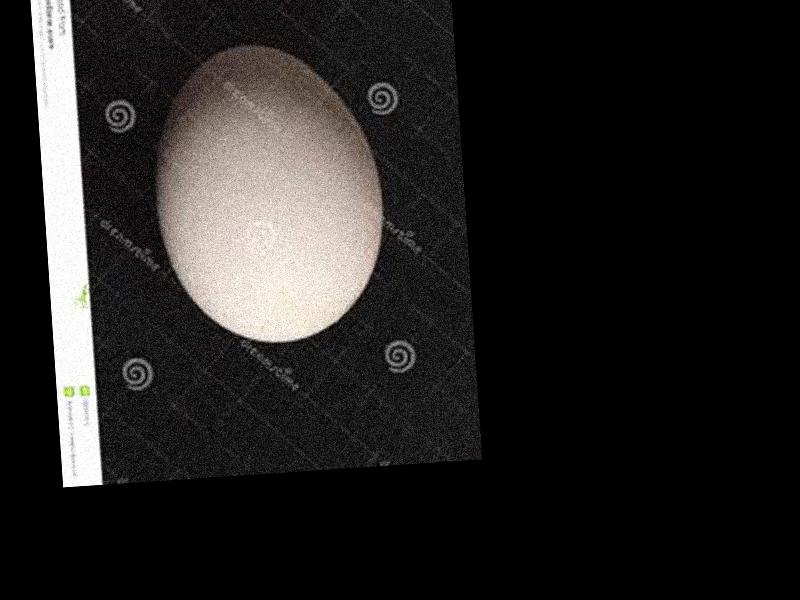Eggs: (147, 36, 390, 352)
